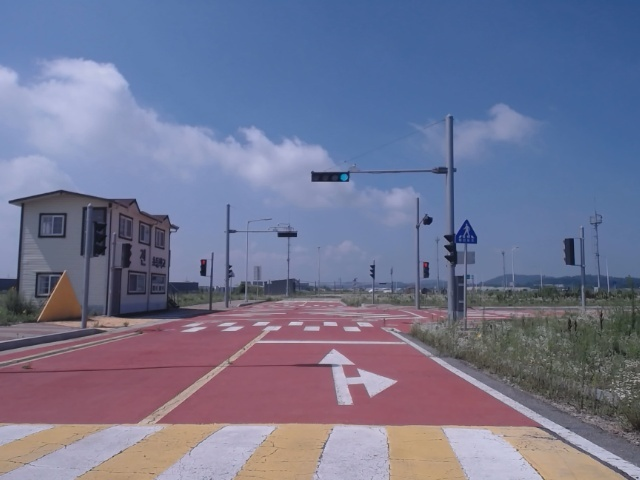straight_green_4: (311, 173, 351, 183)
